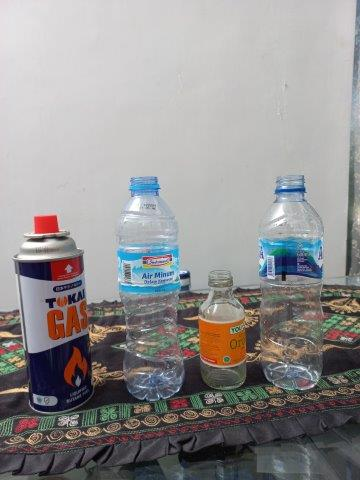botolkaca: (199, 271, 247, 392)
botolplastik: (117, 178, 185, 401), (260, 175, 325, 389)
kaleng: (13, 216, 93, 415)
